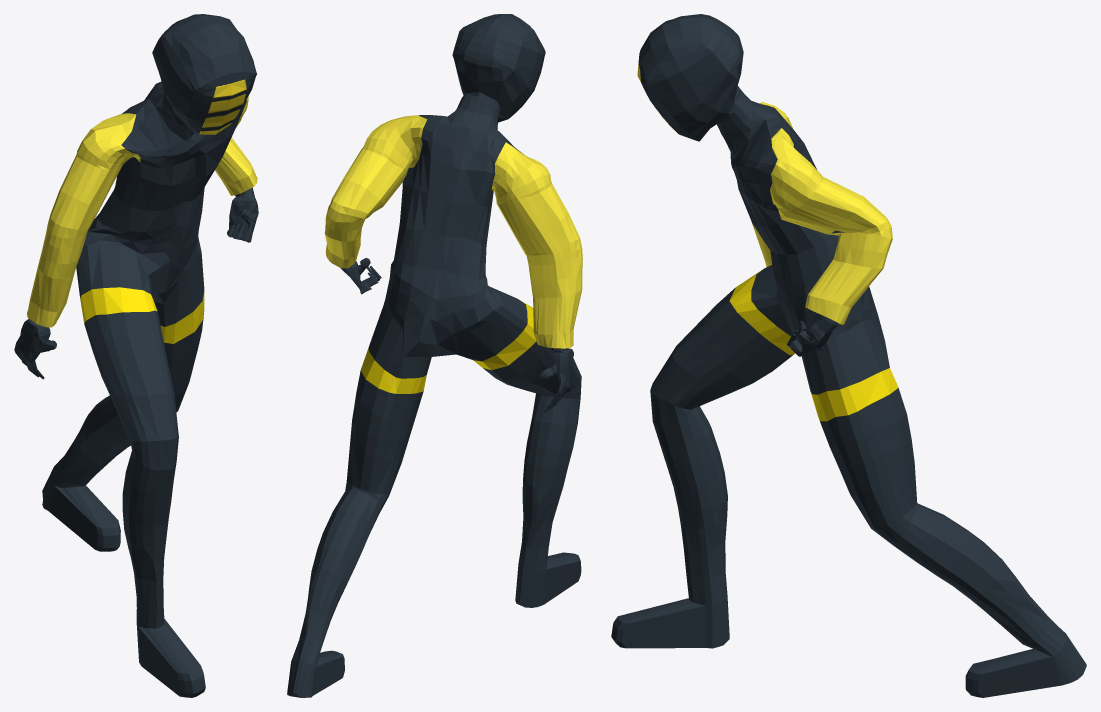
The model's file is Sentry_Stun_000012.obj.
3 views of the same model, side by side, from view 1: azimuth 30°, elevation 25°; view 2: azimuth 150°, elevation 25°; view 3: azimuth 270°, elevation 25° (orthographic). The views are drawn at different scales.
Parts seen in each view (by area): view 1: Cube; view 2: Cube; view 3: Cube.
Part boxes in pixels (x1=…): Cube: x1=14, y1=14, x2=258, y2=697; Cube: x1=287, y1=14, x2=582, y2=697; Cube: x1=611, y1=14, x2=1086, y2=697.
Size of the model in its own units: 1.39 by 3.38 by 2.23.
